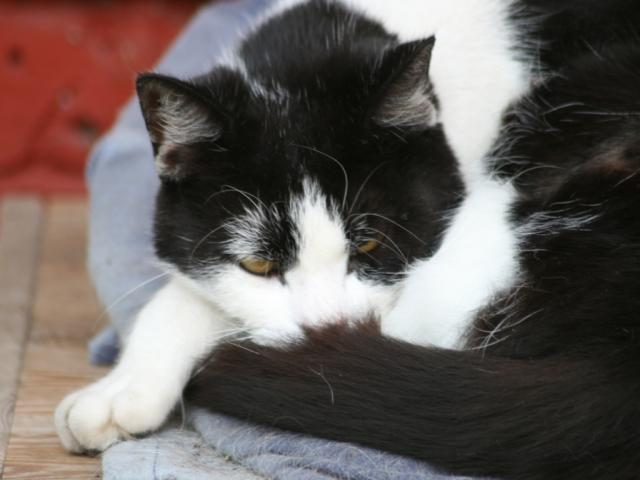Cat: (52, 0, 640, 480)
